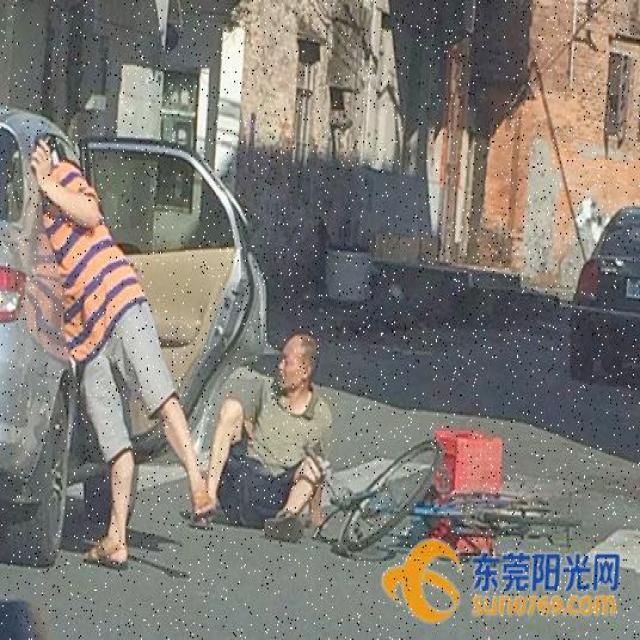fall: (212, 331, 336, 534)
